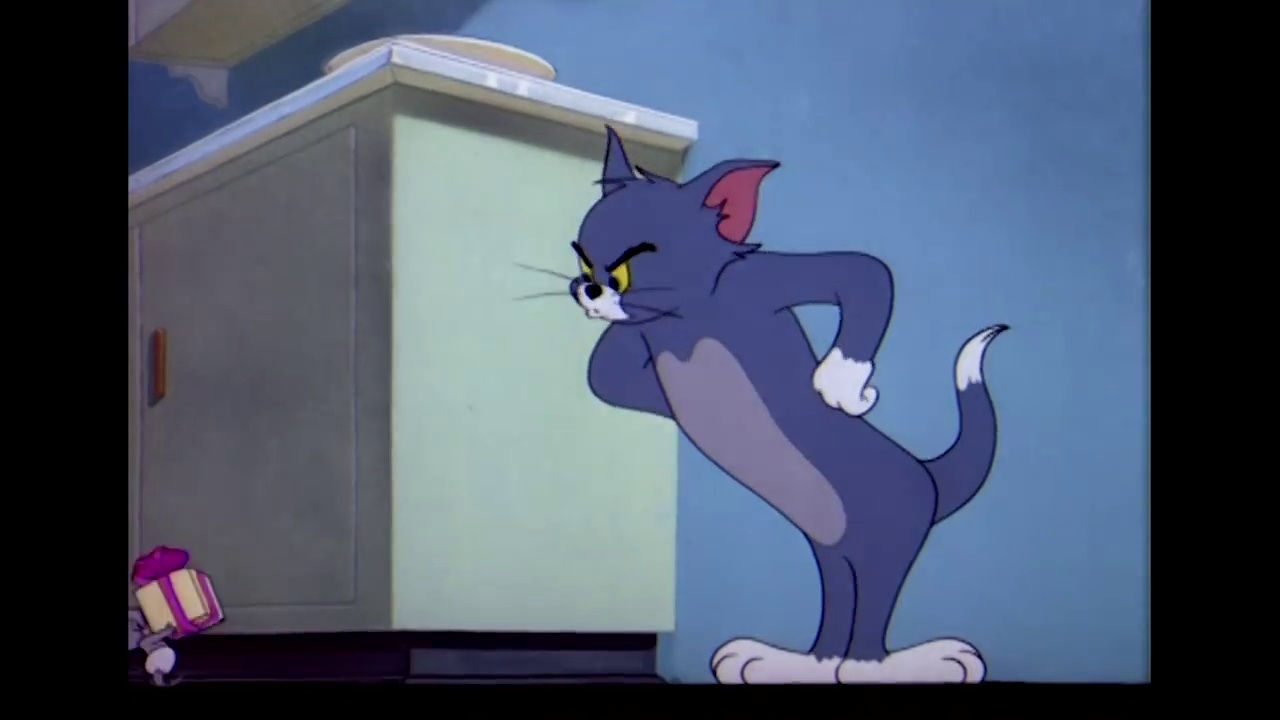tom: (560, 119, 785, 330)
